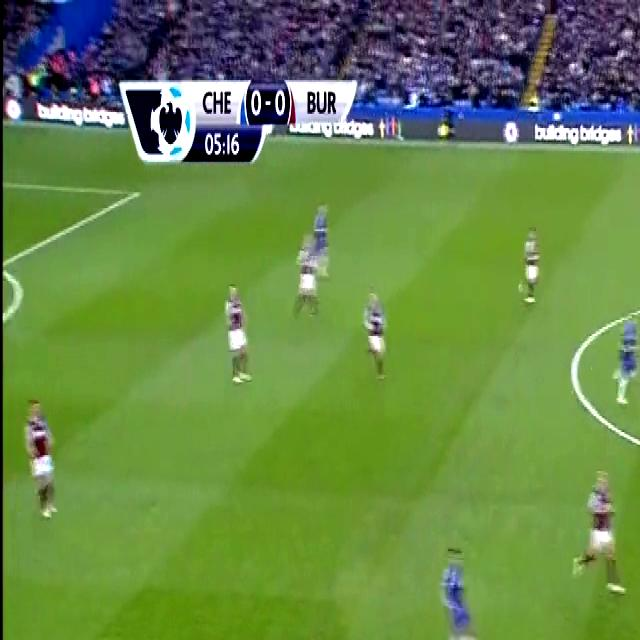referee: (438, 91, 461, 148)
soccer-player: (566, 454, 636, 618), (428, 521, 491, 640), (19, 383, 67, 522), (213, 263, 256, 393), (282, 233, 321, 334), (610, 295, 640, 413), (362, 286, 397, 386), (519, 210, 549, 304), (304, 196, 334, 284)
